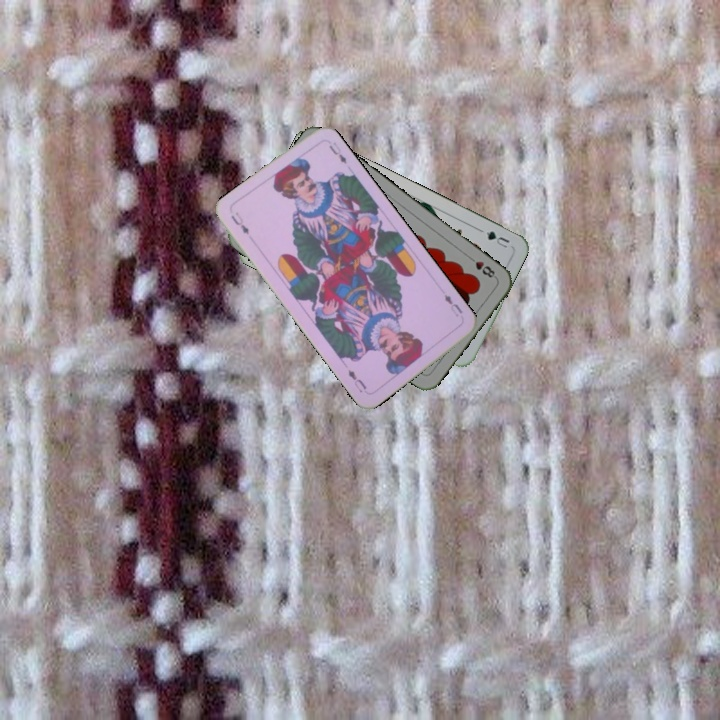EU: (440, 290, 465, 319), (227, 208, 252, 237)
GU: (482, 227, 512, 252)
H8: (464, 252, 499, 281)
